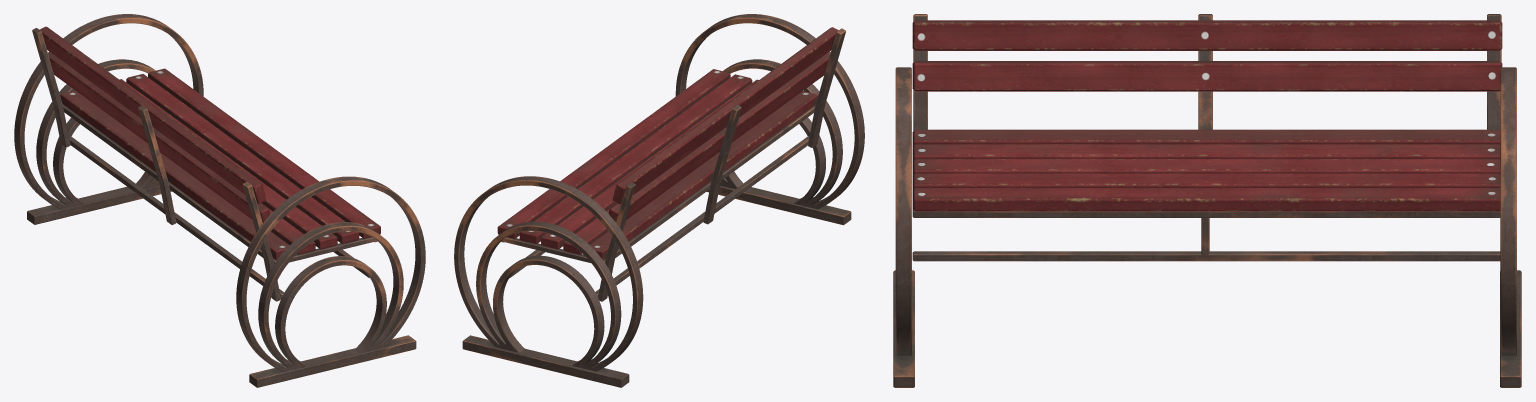
The model's file is obj_bench_01_e6c321.glb.
3 renders of one model, left to right at view 1: azimuth 30°, elevation 25°; view 2: azimuth 150°, elevation 25°; view 3: azimuth 270°, elevation 25°, orthographic. The views are drawn at different scales.
Parts seen in each view (by area): view 1: obj_bench_01_e6c321; view 2: obj_bench_01_e6c321; view 3: obj_bench_01_e6c321.
Boxes of the visible parts, x1,y1,x2,y2 form: obj_bench_01_e6c321: (14, 14, 425, 387); obj_bench_01_e6c321: (454, 14, 864, 387); obj_bench_01_e6c321: (893, 14, 1521, 387).
Size of the model in its own units: 0.5539 by 0.5664 by 1.2.
Materials: 1 (1 with a texture image).
